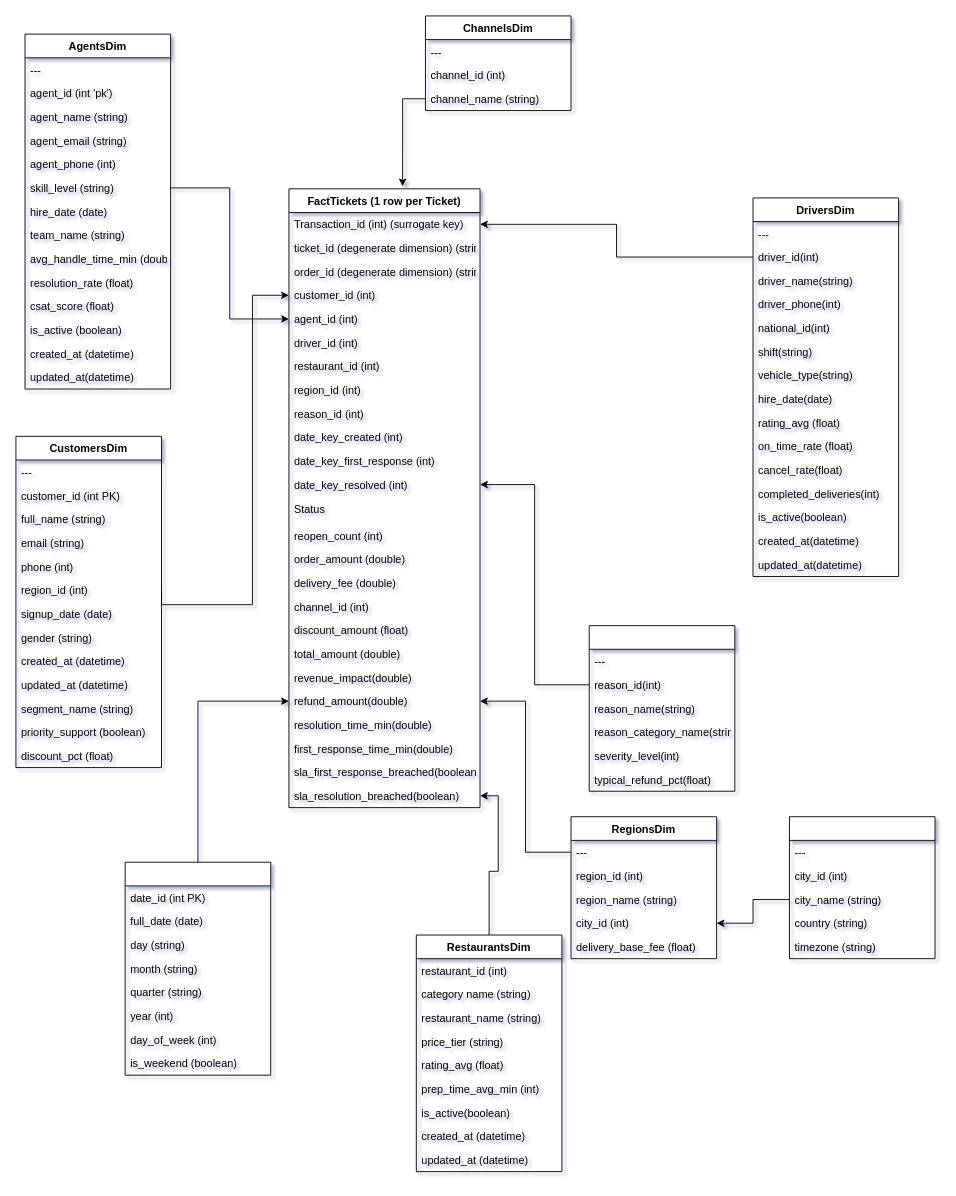
This 956x1196 diagram has some shape labels left out. The shapes that lost their labels are listed below. From the top down, each one's box as (x1, y1, x2, y2) in pixels, then its label:
(588, 625, 735, 791): ReasonsDim
(789, 816, 935, 959): CitiesDim
(124, 861, 271, 1075): DateDim
